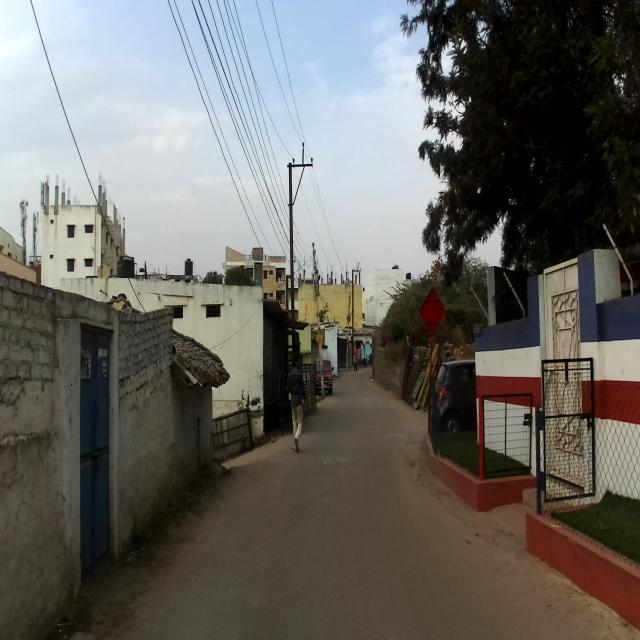person ahead at: (285, 356, 311, 452)
